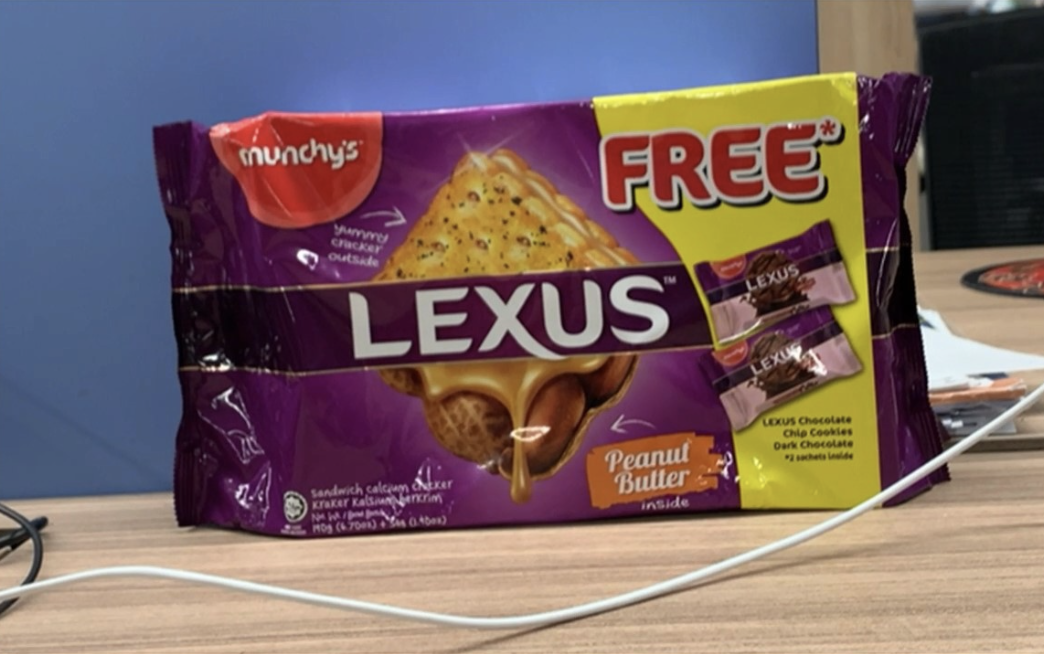crackers_200g-299g: (228, 130, 855, 527)
